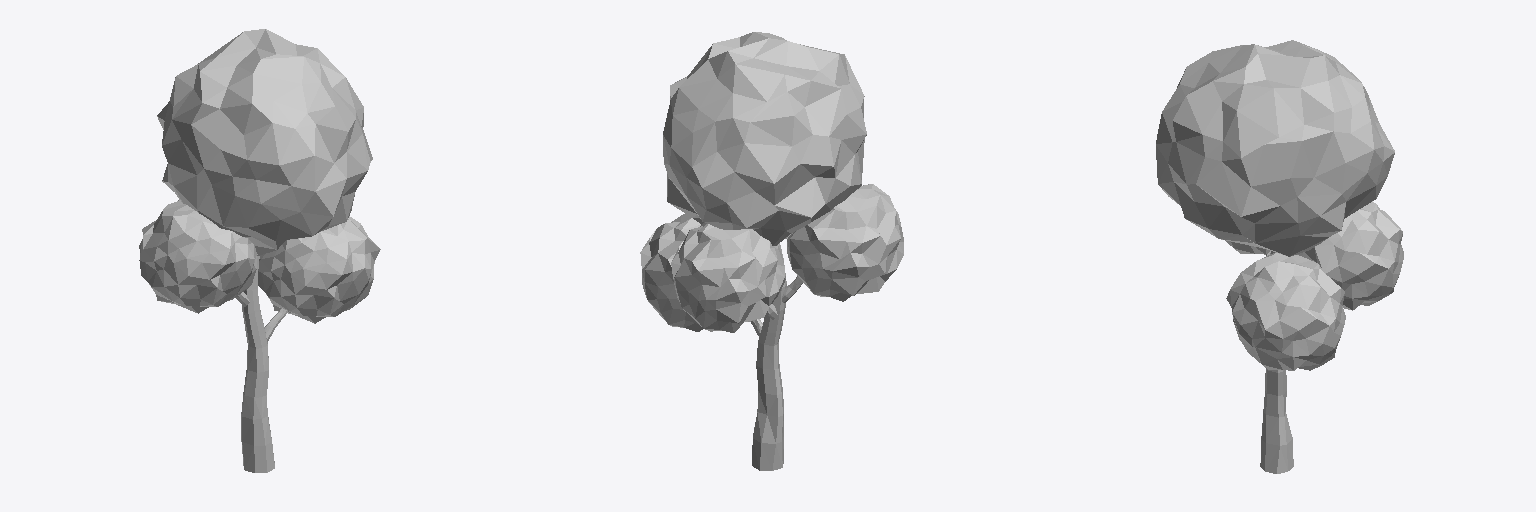
Rendered from tree.obj.
The picture shows the model from 3 angles: view 1: azimuth 30°, elevation 25°; view 2: azimuth 150°, elevation 25°; view 3: azimuth 270°, elevation 25°; orthographic projection.
Visible parts, largest first — view 1: Icosphere; view 2: Icosphere; view 3: Icosphere.
Part boxes in pixels (bbox=[...]): Icosphere: bbox=[139, 29, 380, 472]; Icosphere: bbox=[640, 32, 903, 470]; Icosphere: bbox=[1156, 40, 1403, 473].
Size of the model in its own units: 3.94 by 6.72 by 3.61.